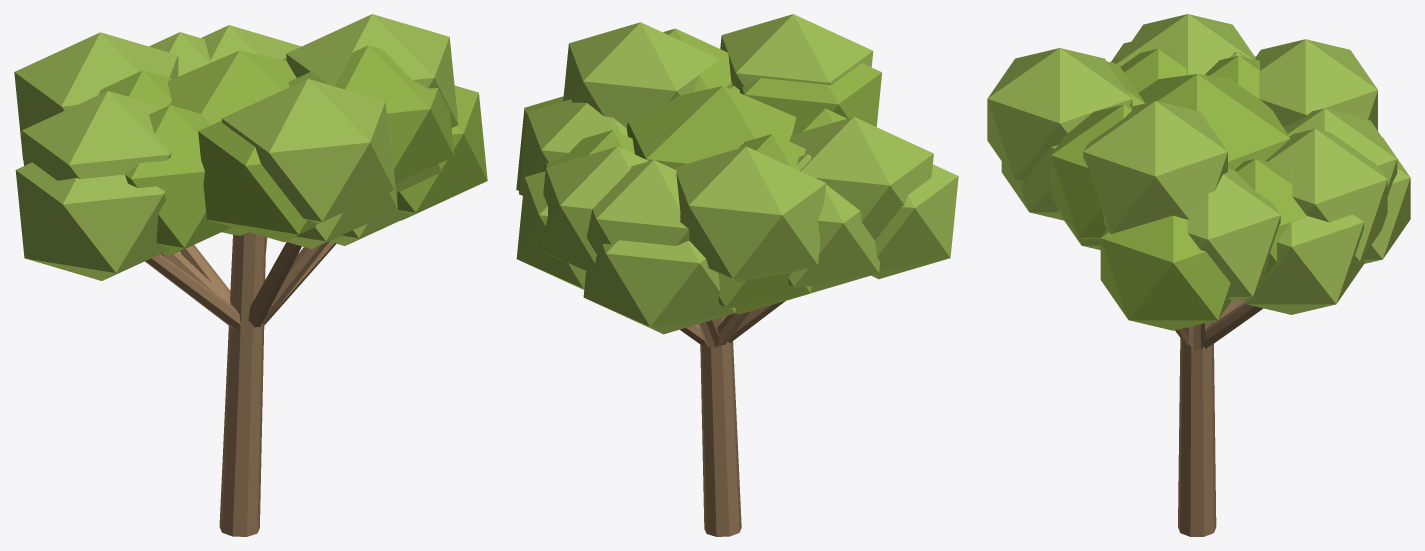
Rendered from tree.glb.
3 renders of one model, left to right at view 1: azimuth 30°, elevation 25°; view 2: azimuth 150°, elevation 25°; view 3: azimuth 270°, elevation 25°, orthographic. The views are drawn at different scales.
Parts seen in each view (by area): view 1: tree; view 2: tree; view 3: tree.
Part boxes in pixels (x1=…): tree: x1=14, y1=14, x2=487, y2=536; tree: x1=516, y1=14, x2=958, y2=536; tree: x1=987, y1=14, x2=1410, y2=536.
Bounding box in the file's own units: 4.12 × 4.35 × 3.47.
